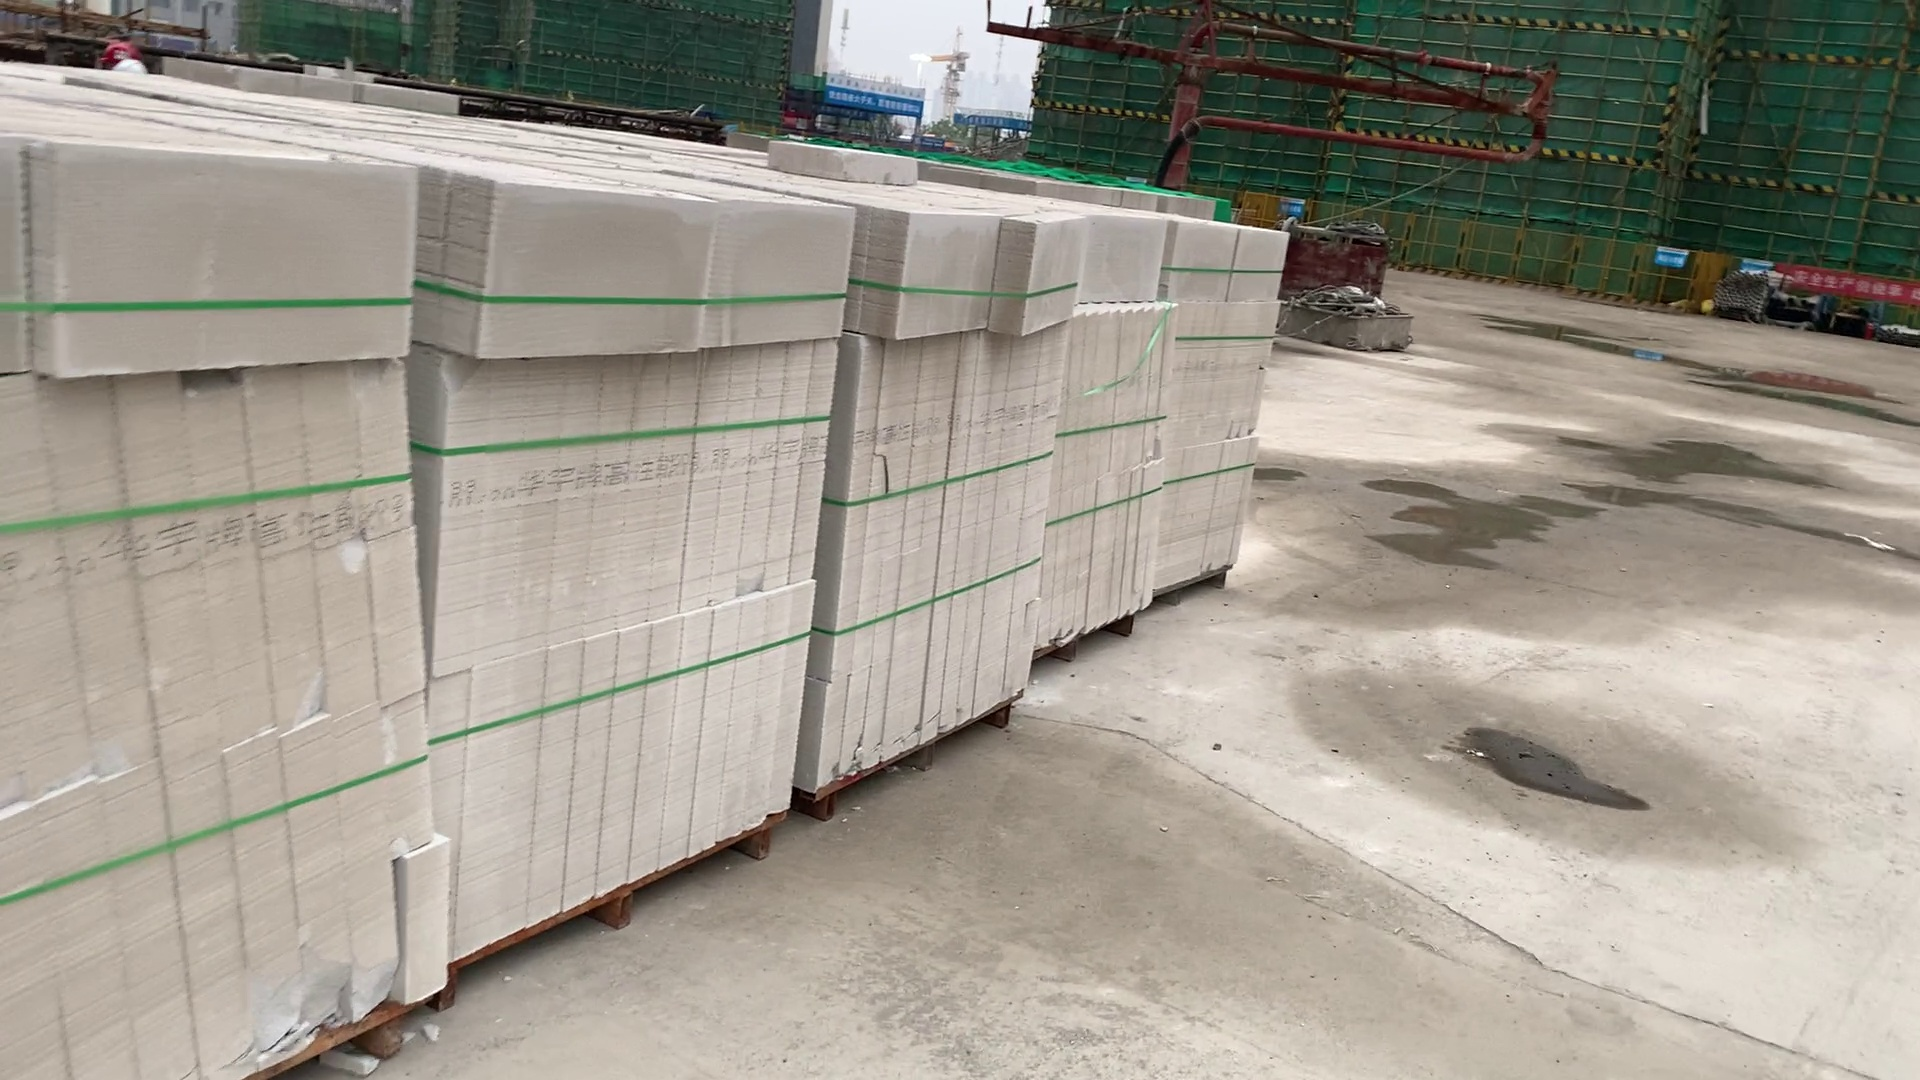brickwork: (3, 113, 433, 1080), (435, 161, 804, 945), (818, 210, 1042, 808), (1046, 225, 1156, 661), (1158, 229, 1265, 587)
